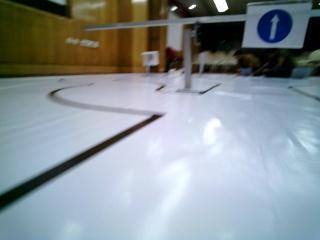straight: (252, 5, 306, 48)
